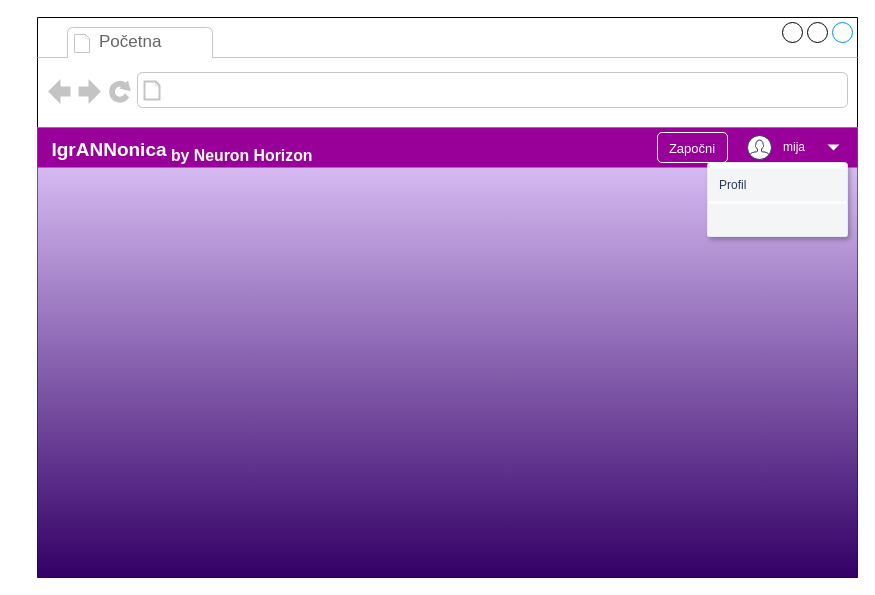
Some shapes in this 875 by 595 pixel diagram are drawn without their labels. Here are the shapes that lost their labels. From the top down, the centre of each, then its label:
point (292, 90): http://www.igrannonica.pmf.kg.ac.rs
point (777, 219): Odjavi se
